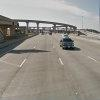Bridge: (2, 10, 86, 35)
